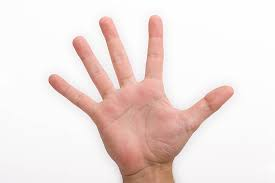palm: (46, 11, 237, 170)
